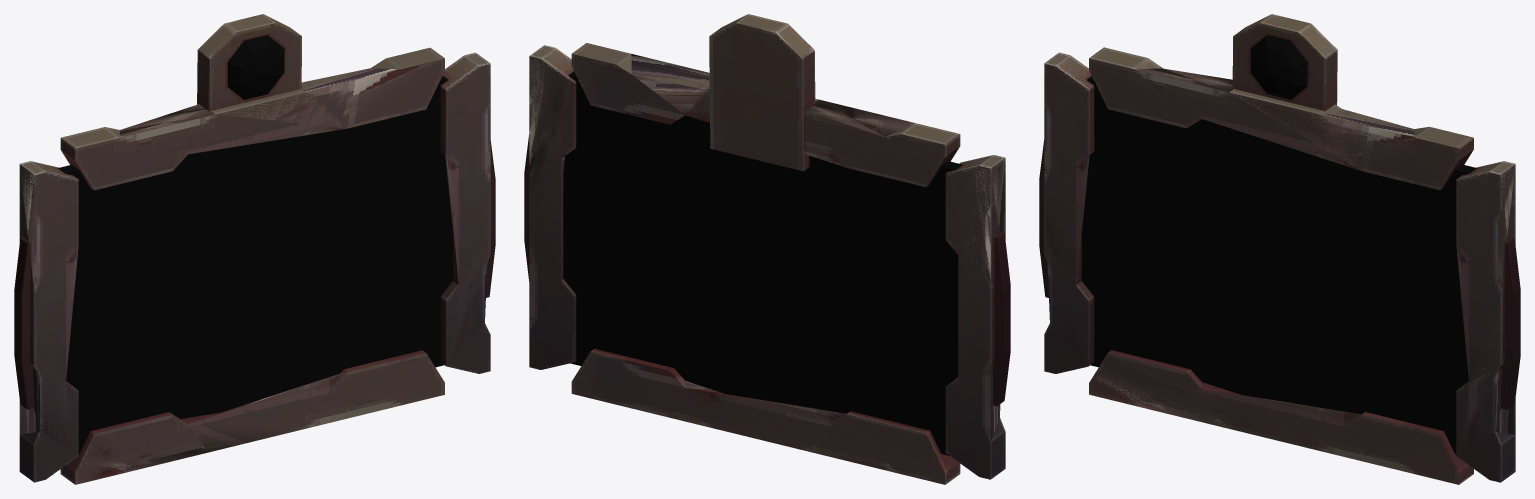
The model's file is item_film_filter_dreamy.glb.
3 views of the same model, side by side, from view 1: azimuth 30°, elevation 25°; view 2: azimuth 150°, elevation 25°; view 3: azimuth 330°, elevation 25° (orthographic).
Parts seen in each view (by area): view 1: Cube, IndicatorTab; view 2: Cube, IndicatorTab; view 3: Cube, IndicatorTab.
Boxes of the visible parts, x1,y1,x2,y2 form: Cube: (14,47,495,484); IndicatorTab: (197,14,301,111); Cube: (524,43,1010,484); IndicatorTab: (709,14,815,171); Cube: (1039,47,1520,484); IndicatorTab: (1232,14,1337,111).
Size of the model in its own units: 0.2824 by 0.2327 by 0.0219.
Materials: 1 (1 with a texture image).
